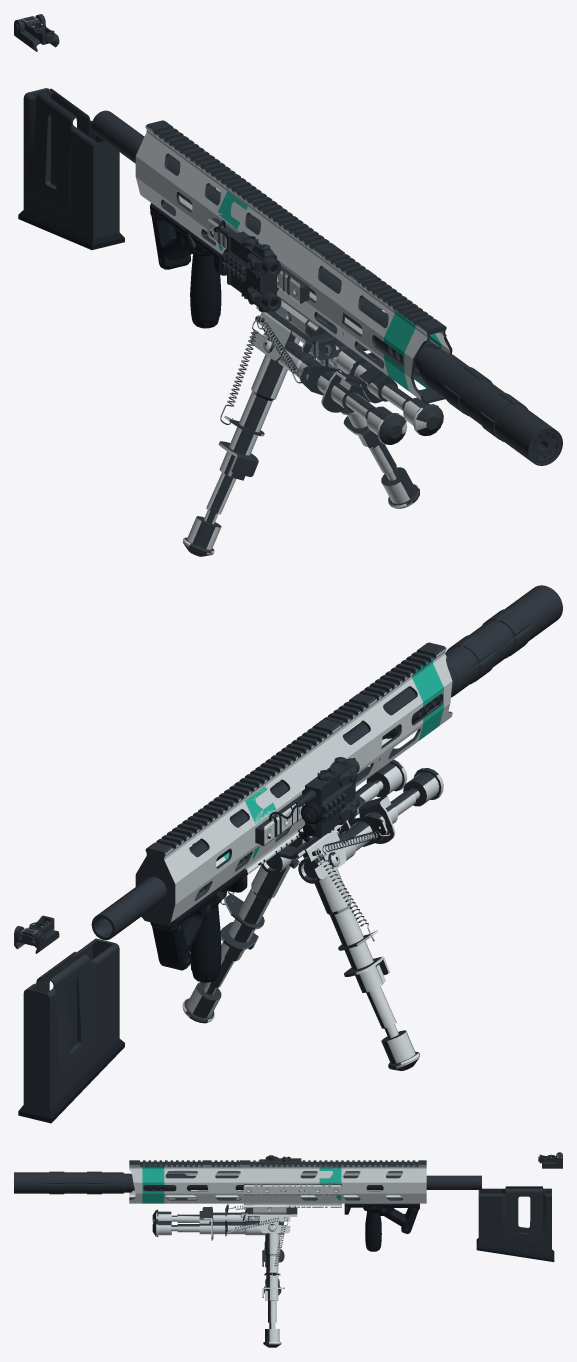
File: Sniper.glb
3 views of the same model, one above another, from view 1: azimuth 30°, elevation 25°; view 2: azimuth 150°, elevation 25°; view 3: azimuth 270°, elevation 25° (orthographic). The views are drawn at different scales.
Parts seen in each view (by area): view 1: SM_Sniper_Magazine_Transparent, SM_Sniper_Bipod, SM_Sniper_Handguard_Default, SM_Sniper_Handguard_Short, SM_Sniper_Bipod_Closed, SM_Sniper_Handguard_Extended, SM_Silencer, SM_Laser, SM_Sniper_Barrel_Extended, SM_Grip_Vertical, SM_Grip_Angled, SM_Sniper_Sight_Rear_Folded (+1 smaller); view 2: SM_Sniper_Magazine_Transparent, SM_Sniper_Handguard_Default, SM_Sniper_Bipod, SM_Sniper_Handguard_Extended, SM_Sniper_Handguard_Short, SM_Sniper_Bipod_Closed, SM_Silencer, SM_Laser, SM_Grip_Angled, SM_Sniper_Barrel_Extended, SM_Grip_Vertical, SM_Sniper_Barrel_Short (+1 smaller); view 3: SM_Sniper_Handguard_Default, SM_Sniper_Handguard_Extended, SM_Sniper_Magazine_Transparent, SM_Sniper_Bipod_Closed, SM_Silencer, SM_Sniper_Handguard_Short, SM_Sniper_Bipod, SM_Grip_Angled, SM_Sniper_Barrel_Extended, SM_Grip_Vertical, SM_Sniper_Barrel_Short, SM_Sniper_Sight_Rear_Folded (+1 smaller).
Part boxes in pixels (x1,y1,x2,y2): SM_Sniper_Magazine_Transparent: (18,88,124,249); SM_Sniper_Bipod: (182,296,419,556); SM_Sniper_Handguard_Default: (137,120,381,351); SM_Sniper_Handguard_Short: (135,126,341,325); SM_Sniper_Bipod_Closed: (255,299,443,444); SM_Sniper_Handguard_Extended: (137,153,452,403); SM_Silencer: (424,353,562,465); SM_Laser: (210,220,281,312); SM_Sniper_Barrel_Extended: (91,110,560,463); SM_Grip_Vertical: (184,228,221,328); SM_Grip_Angled: (150,203,226,275); SM_Sniper_Sight_Rear_Folded: (14,14,59,51); SM_Sniper_Magazine_Transparent: (18,938,124,1123); SM_Sniper_Handguard_Default: (135,693,382,925); SM_Sniper_Bipod: (182,820,419,1070); SM_Sniper_Handguard_Extended: (169,642,452,887); SM_Sniper_Handguard_Short: (164,719,347,922); SM_Sniper_Bipod_Closed: (261,759,443,883); SM_Silencer: (445,585,562,697); SM_Laser: (268,757,359,842); SM_Grip_Angled: (150,869,247,970); SM_Sniper_Barrel_Extended: (91,698,435,939); SM_Grip_Vertical: (190,883,226,982); SM_Sniper_Barrel_Short: (94,687,440,937); SM_Sniper_Handguard_Default: (202,1160,426,1207); SM_Sniper_Handguard_Extended: (129,1160,426,1203); SM_Sniper_Magazine_Transparent: (476,1186,554,1261); SM_Sniper_Bipod_Closed: (152,1204,297,1240); SM_Silencer: (14,1171,124,1194); SM_Sniper_Handguard_Short: (240,1160,426,1207); SM_Sniper_Bipod: (243,1204,297,1347); SM_Grip_Angled: (344,1203,419,1233); SM_Sniper_Barrel_Extended: (144,1175,481,1189); SM_Grip_Vertical: (363,1203,381,1251); SM_Sniper_Barrel_Short: (143,1173,481,1190); SM_Sniper_Sight_Rear_Folded: (538,1152,562,1168).
Size of the model in its own units: 22.29 by 28.76 by 86.01.
16 materials, 15 textured.
